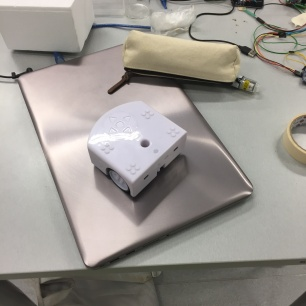thymio: (85, 100, 192, 203)
